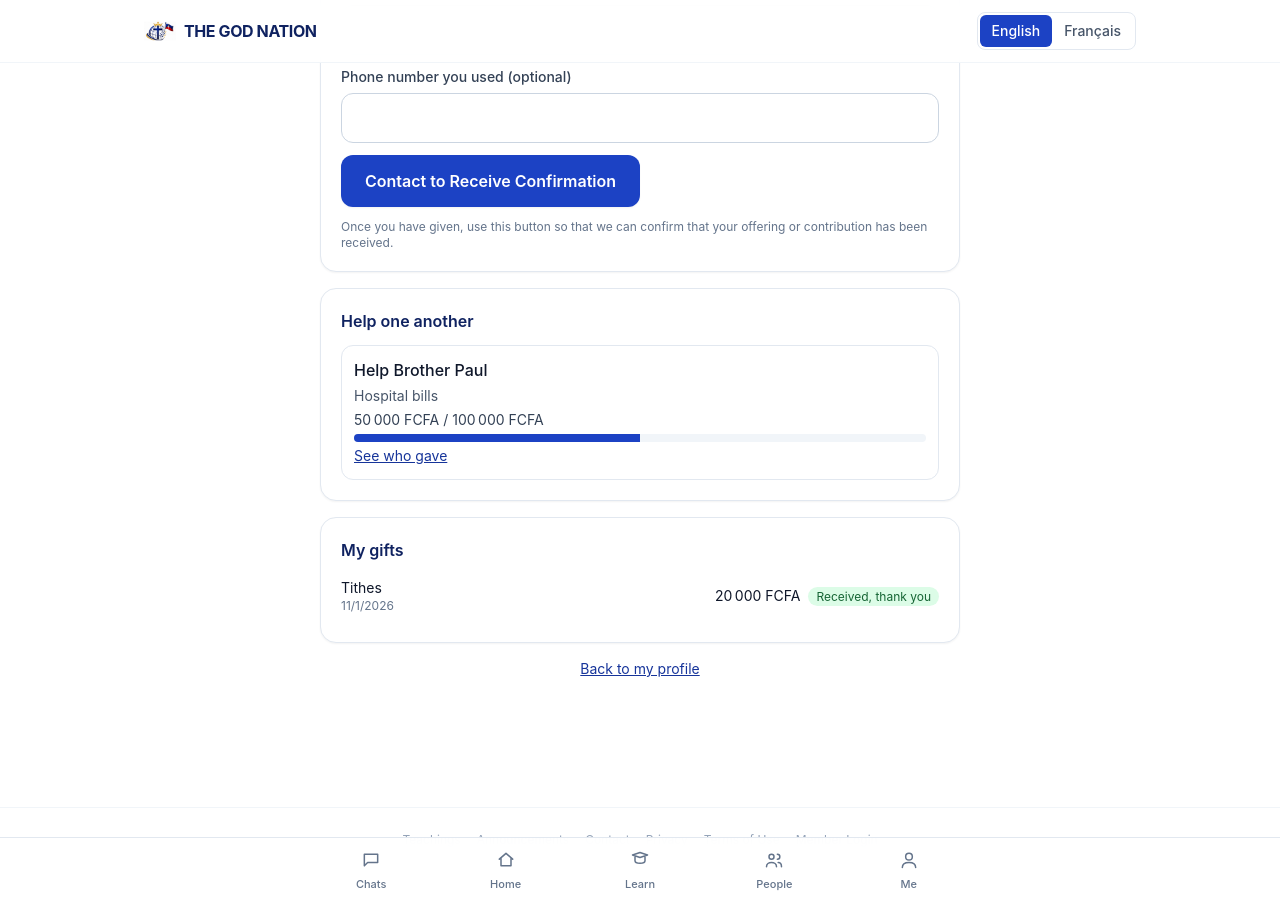
Test: MemberGivePage › opens a campaign report: names, and Anonymous for those who asked
(page scrolled)
Click the button "See who gave". click: (401, 456)
box: 354,446 -> 447,466
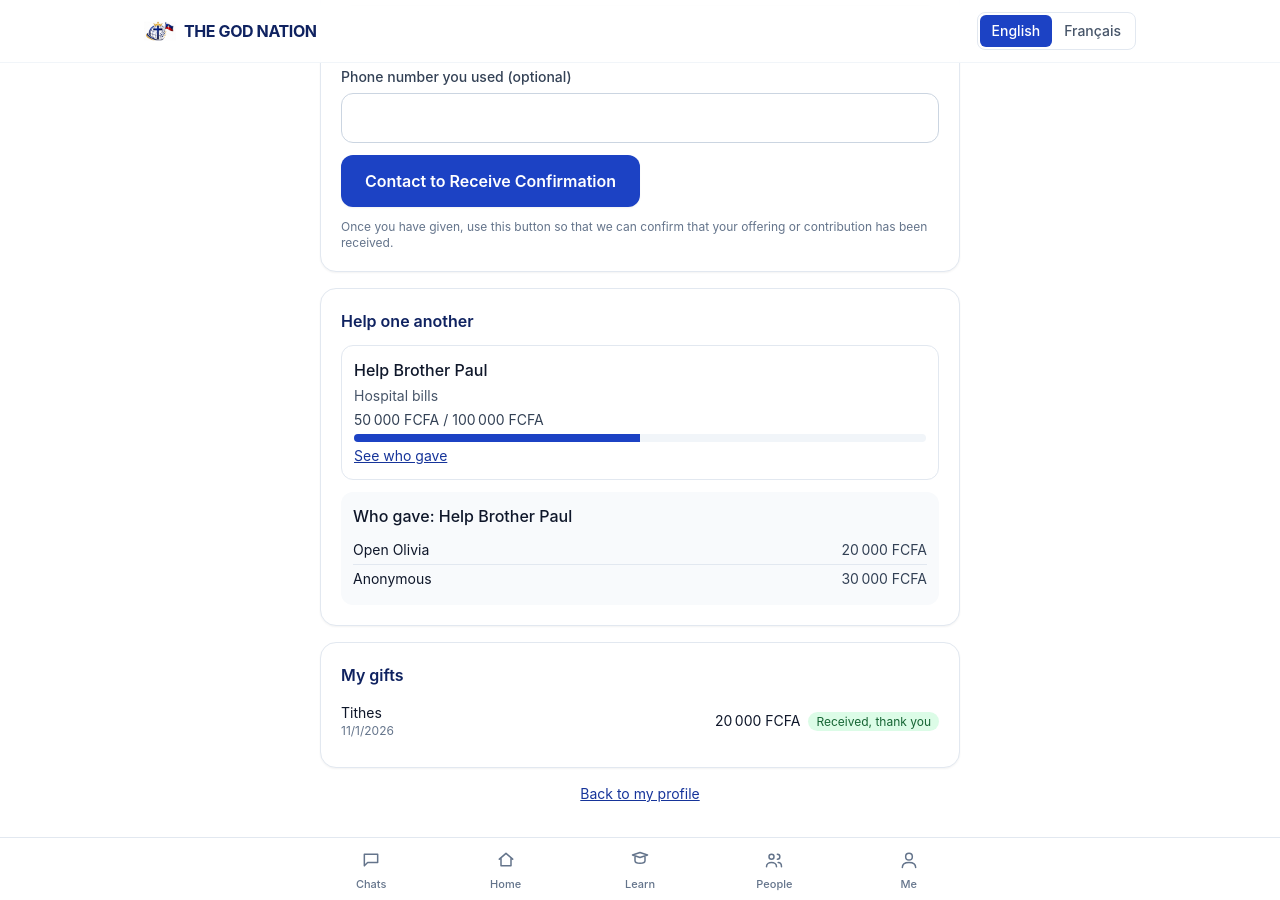
Result: the text "Open Olivia" is shown at 353,540 -> 429,560
Result: the text "Anonymous" is shown at 353,569 -> 432,589
